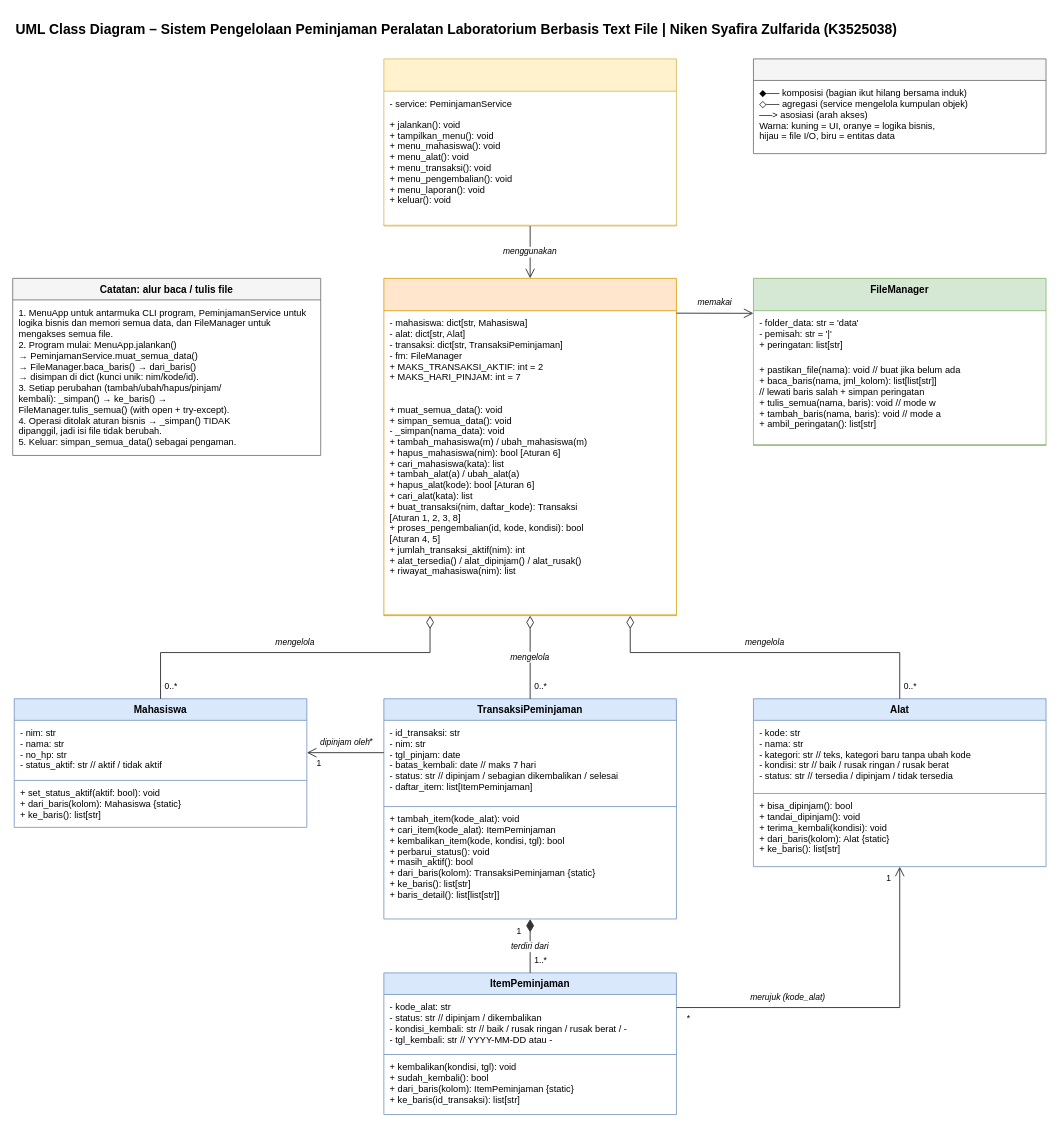
The diagram is 1059 pixels wide and 1127 high, and some of its shapes have lost their labels. The box of each missing label's shape, as (x1, y1, x2, y2) in pixels:
Keterangan: (753, 58, 1046, 154)
MenuApp: (383, 58, 676, 226)
PeminjamanService: (383, 278, 676, 616)
